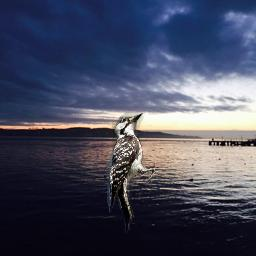Woodpecker: (105, 110, 155, 235)
